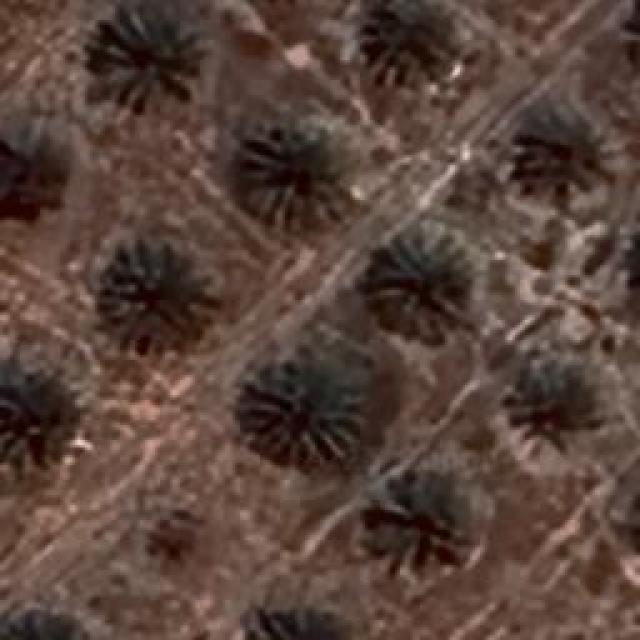PalmTree: (245, 360, 360, 460), (102, 240, 216, 340), (242, 127, 348, 230), (98, 8, 202, 110), (370, 230, 468, 338), (357, 2, 455, 82), (508, 106, 594, 196), (375, 482, 463, 562), (518, 367, 598, 455), (0, 132, 71, 223), (0, 374, 60, 464), (238, 600, 353, 640), (0, 603, 104, 640), (614, 0, 640, 69)
